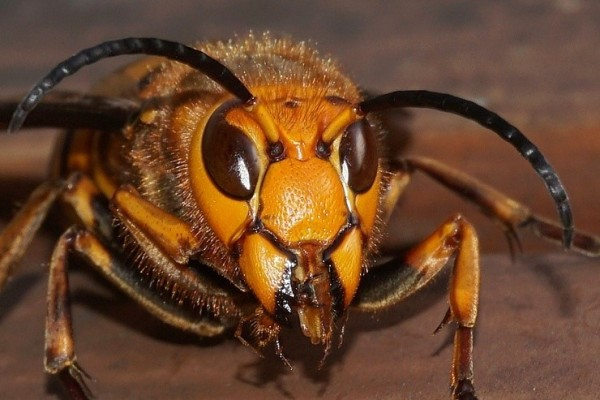asian_giant_hornet: (1, 21, 574, 400)
